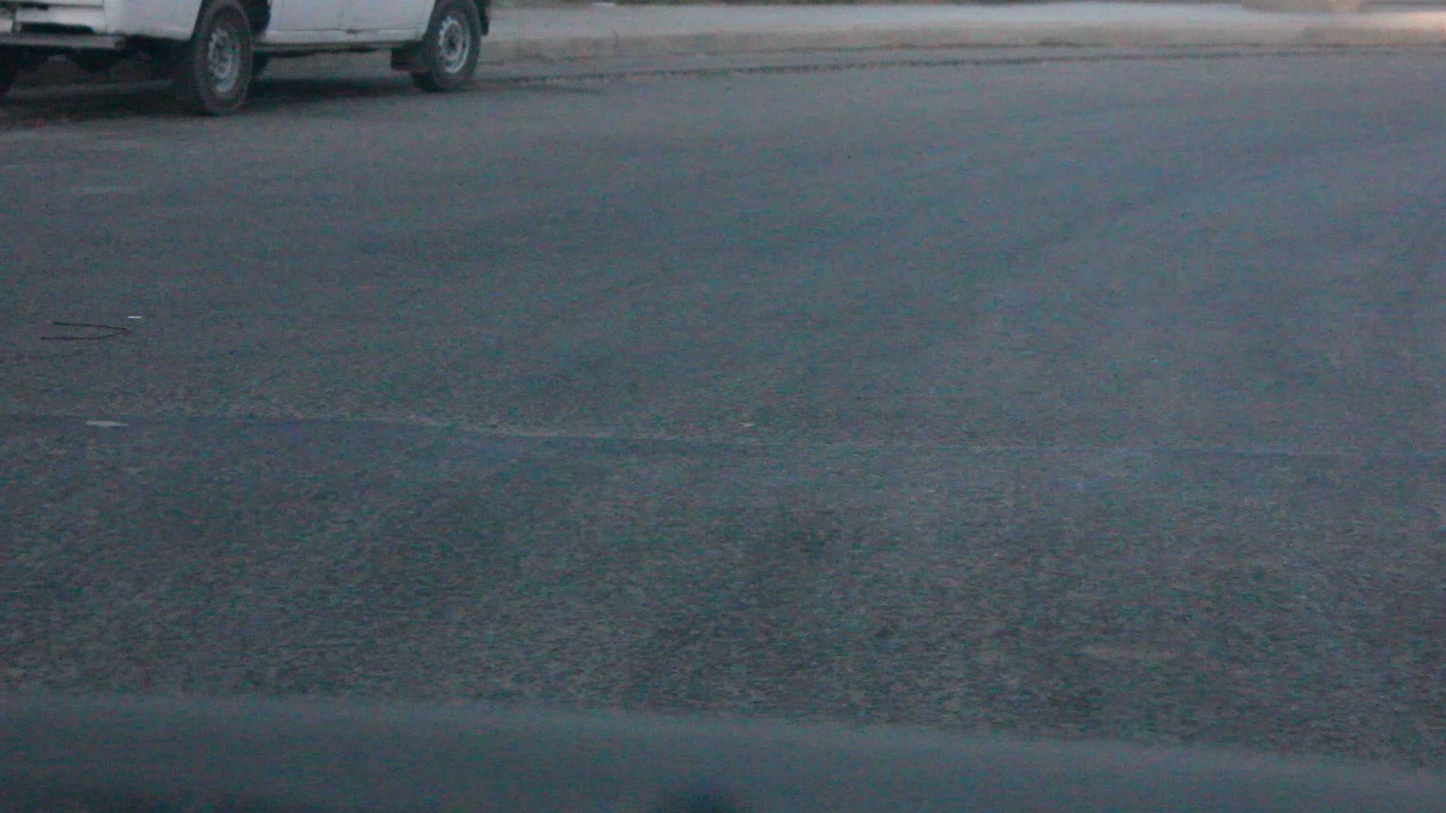Bump: (0, 407, 1445, 787)
